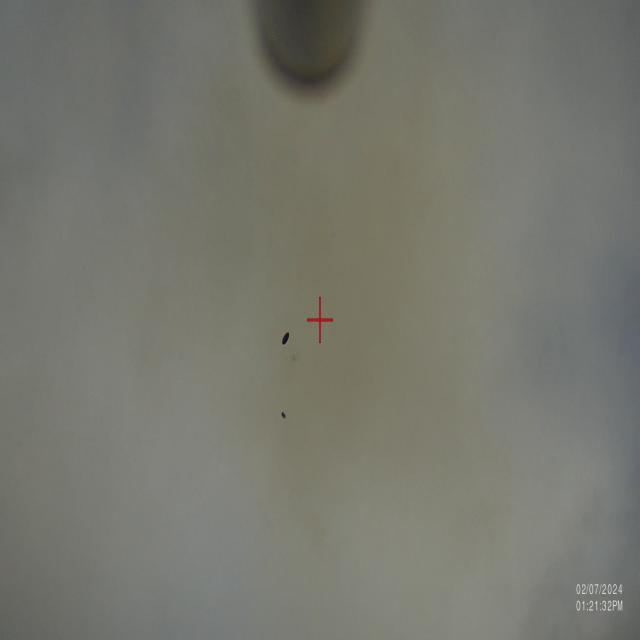entire: (275, 323, 297, 352)
